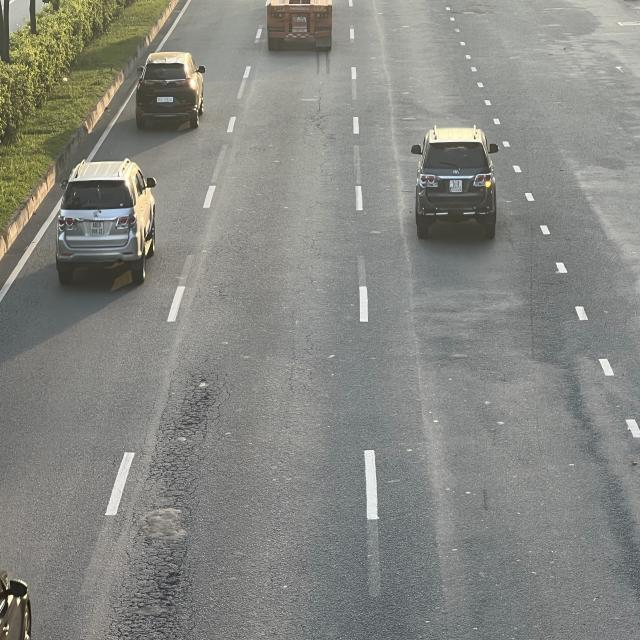car: (57, 159, 160, 287), (411, 126, 499, 237), (138, 51, 210, 130)
